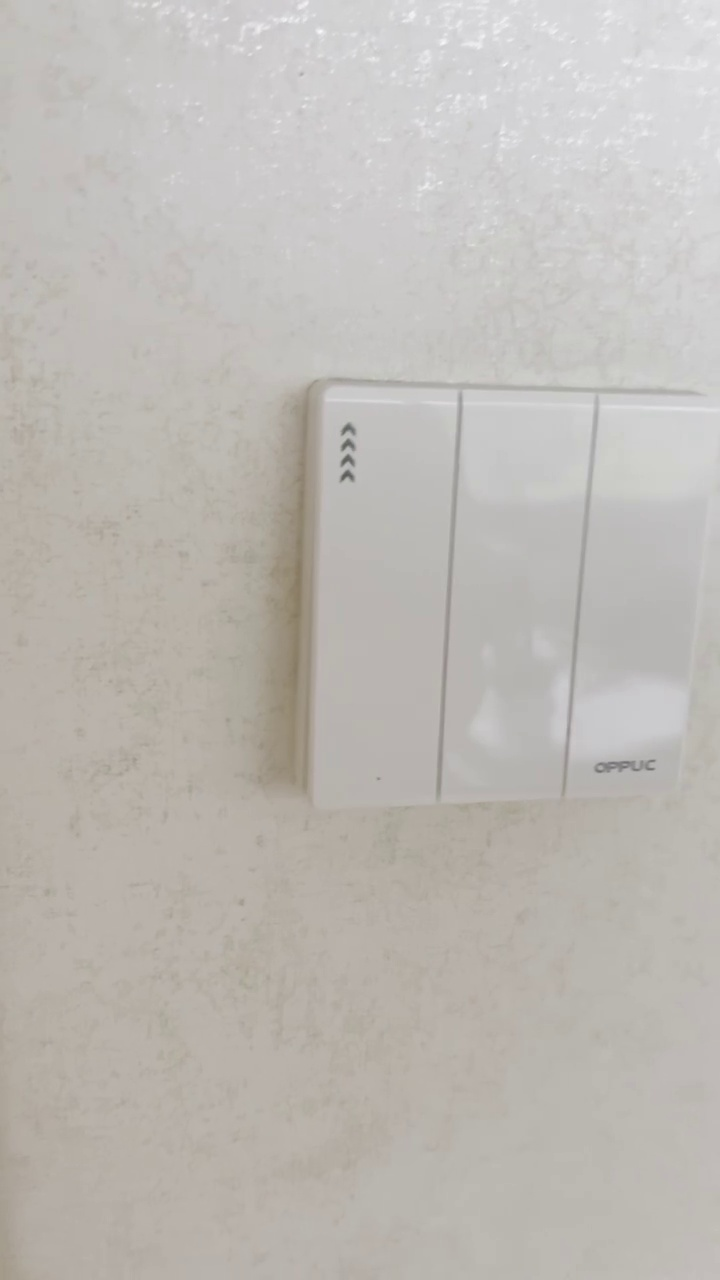button1: (312, 390, 452, 808), (445, 402, 584, 802), (572, 404, 706, 794)
